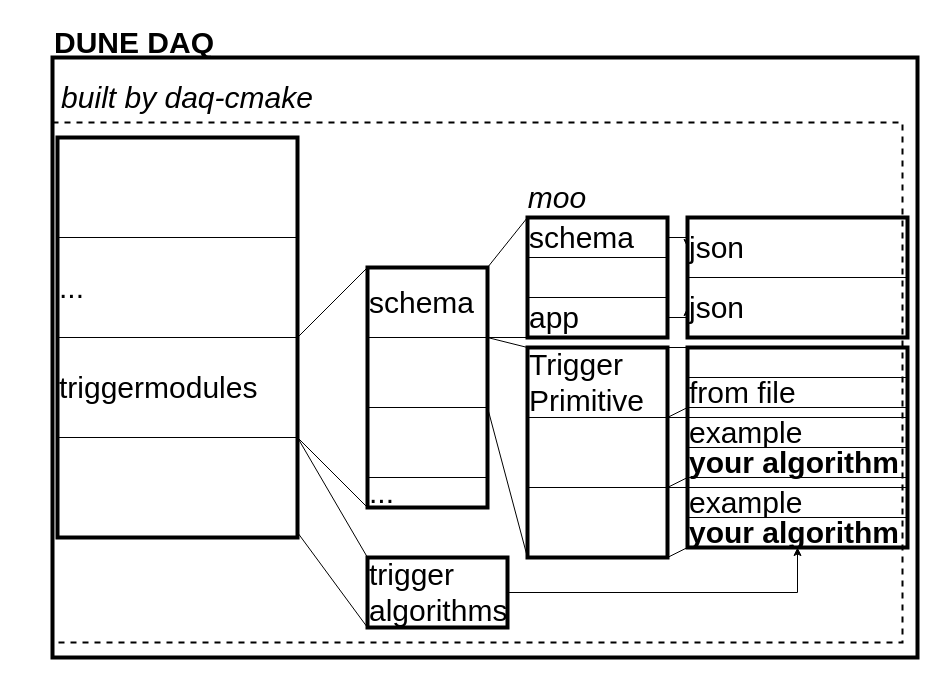
The diagram is 936 pixels wide and 676 high, and some of its shapes have lost their labels. Here are the shapes that lost their labels. From the top down, the box of each, then its label:
(56, 136, 298, 238): appfwk
(526, 256, 668, 298): make
(366, 336, 488, 408): plugins
(686, 346, 908, 378): emulator
(366, 406, 488, 478): src
(526, 416, 668, 488): Trigger Activity
(56, 436, 298, 538): triggeralgs
(526, 486, 668, 558): Trigger Candidate
